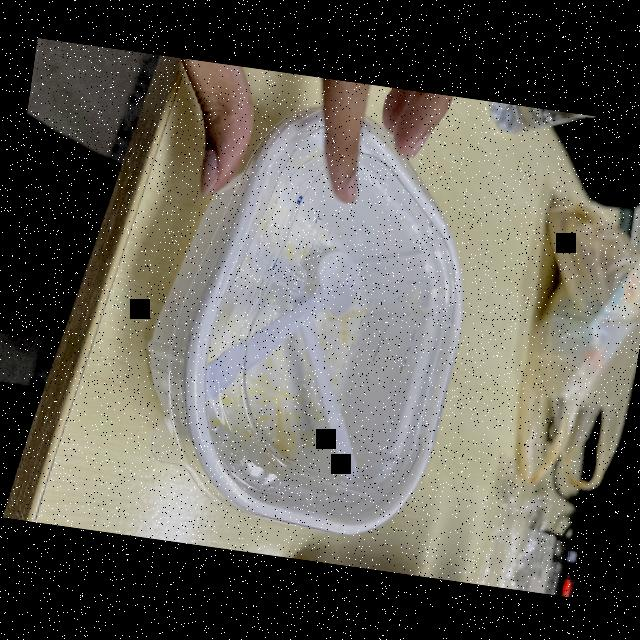plastic_box: (115, 91, 491, 562)
